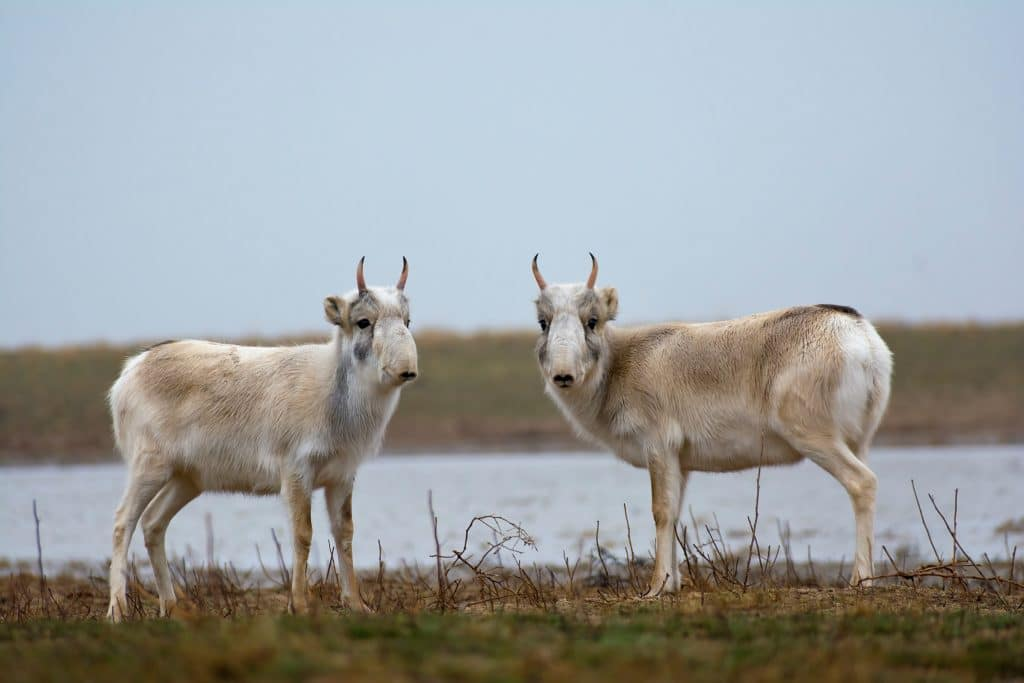saiga: (518, 258, 893, 581), (82, 260, 418, 603)
